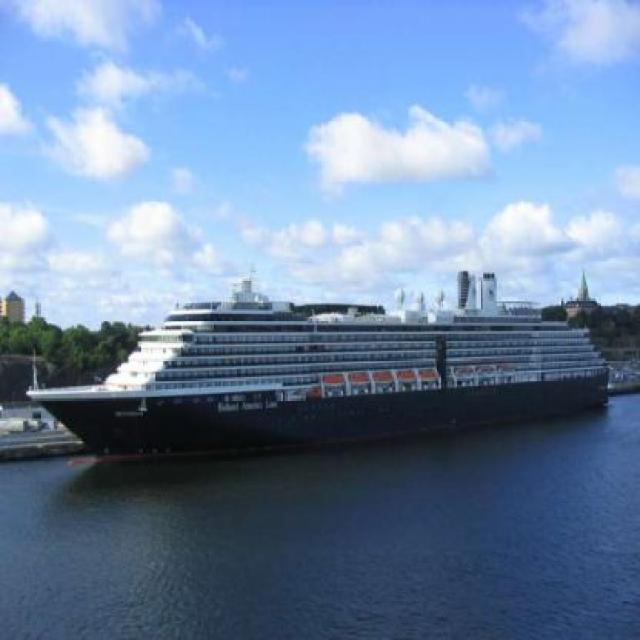ship: (36, 308, 624, 461)
